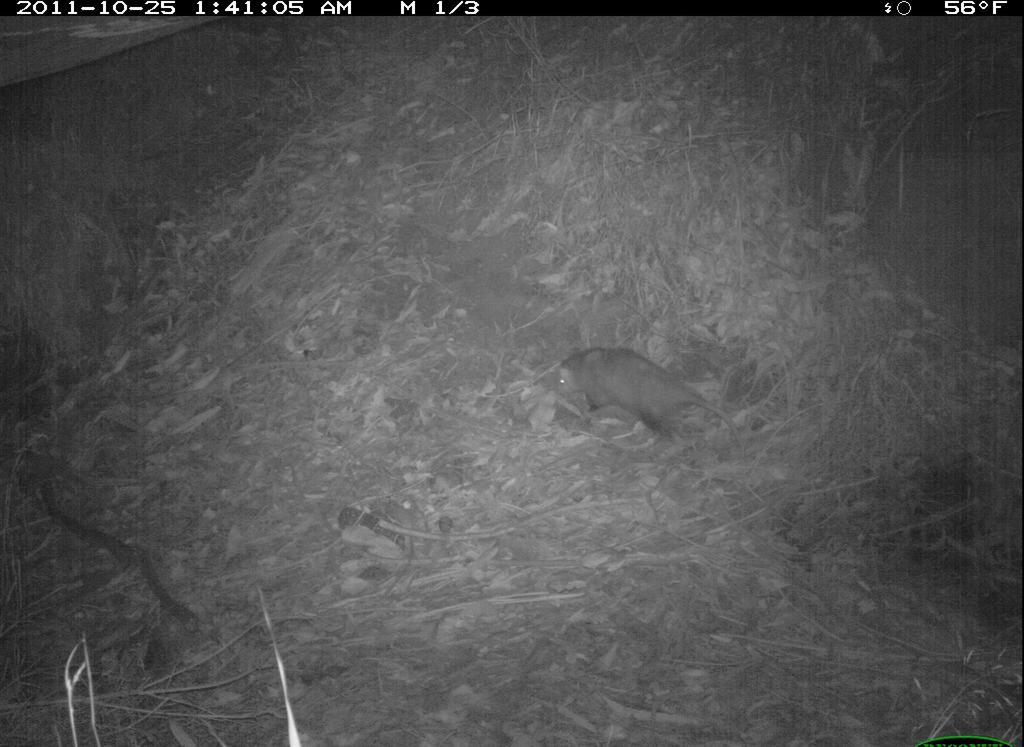opossum: (561, 327, 739, 459)
